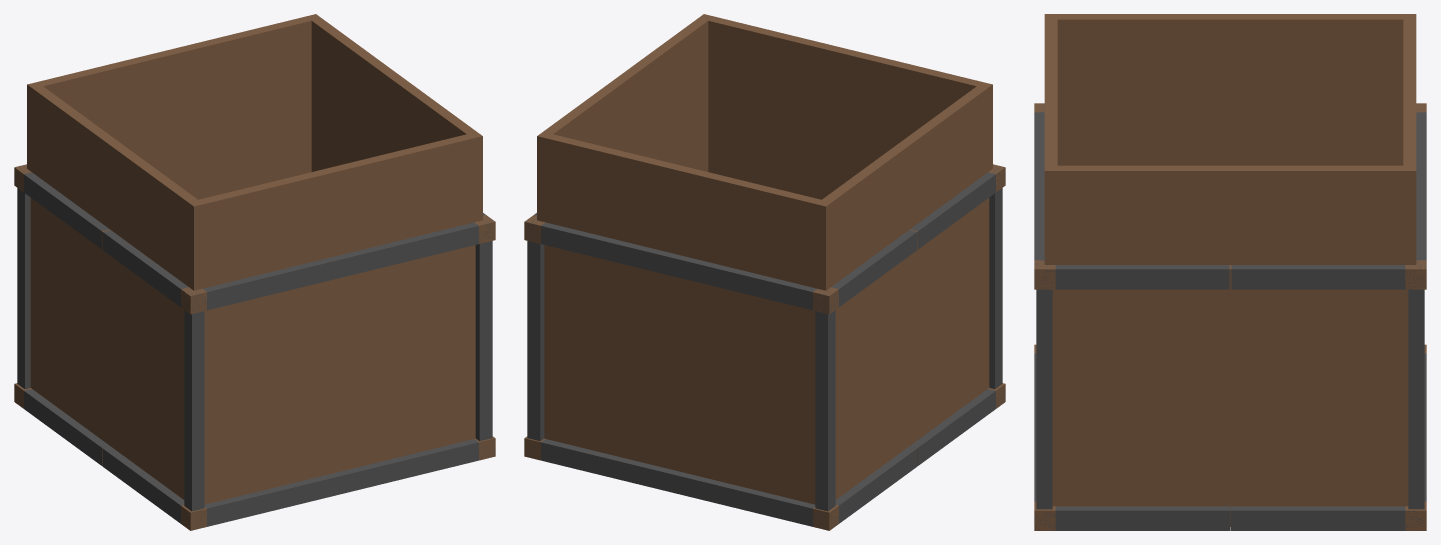
Rendered from storageCrate.fbx.
The picture shows the model from 3 angles, left to right: view 1: azimuth 30°, elevation 25°; view 2: azimuth 150°, elevation 25°; view 3: azimuth 270°, elevation 25°; orthographic projection. The views are drawn at different scales.
Parts seen in each view (by area): view 1: crate; view 2: crate; view 3: crate.
Boxes of the visible parts, x1=… form: crate: x1=14, y1=14, x2=495, y2=530; crate: x1=524, y1=14, x2=1005, y2=530; crate: x1=1034, y1=14, x2=1426, y2=530.
Bounding box in the file's own units: 100 × 100 × 100.
